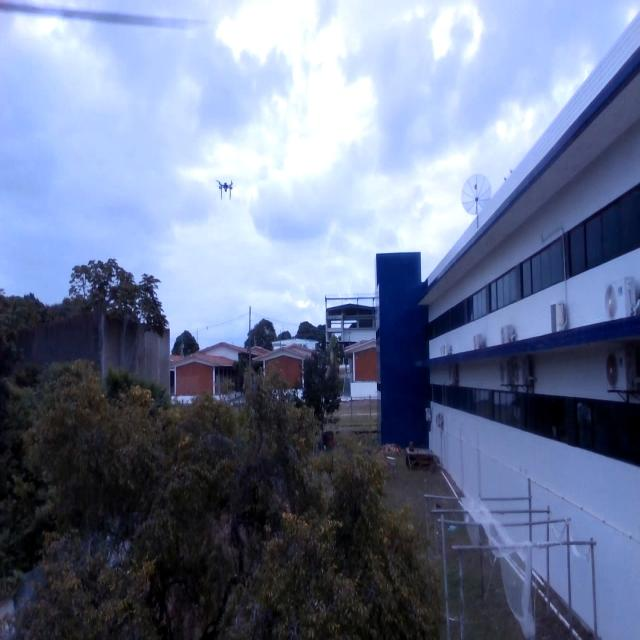-uav-: (215, 170, 237, 204)
